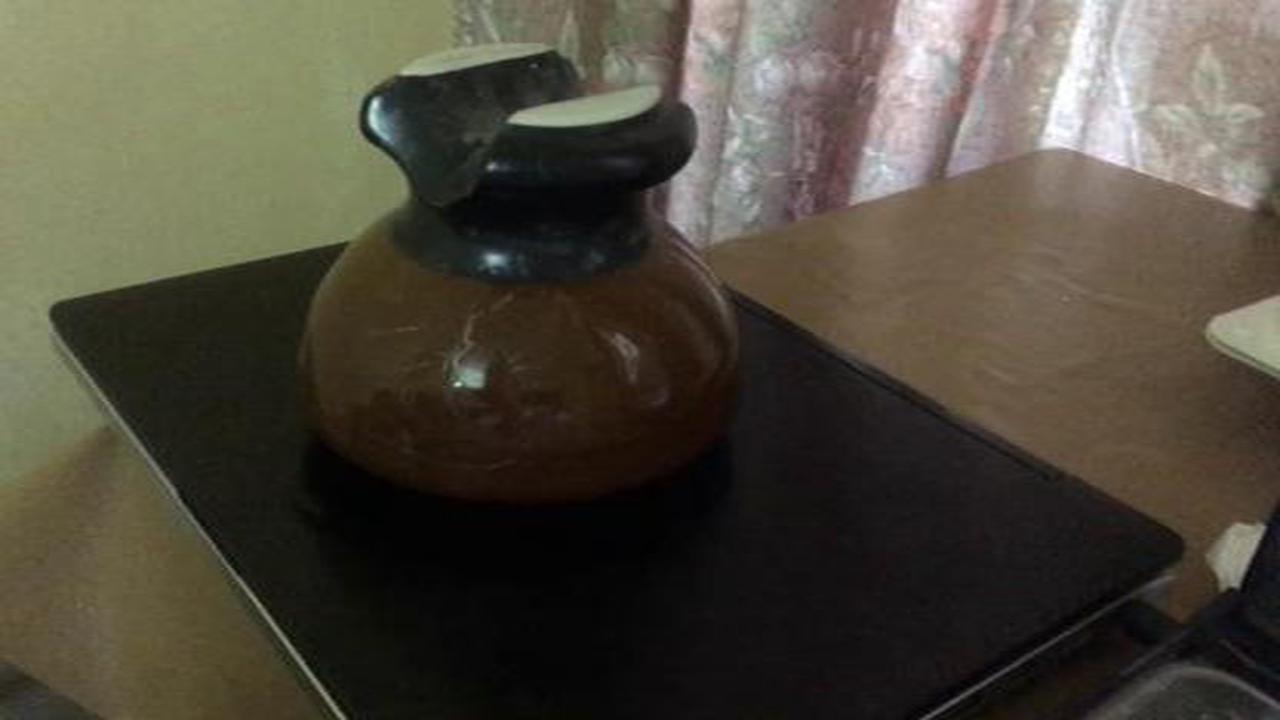insulator_pin: (295, 31, 770, 518)
